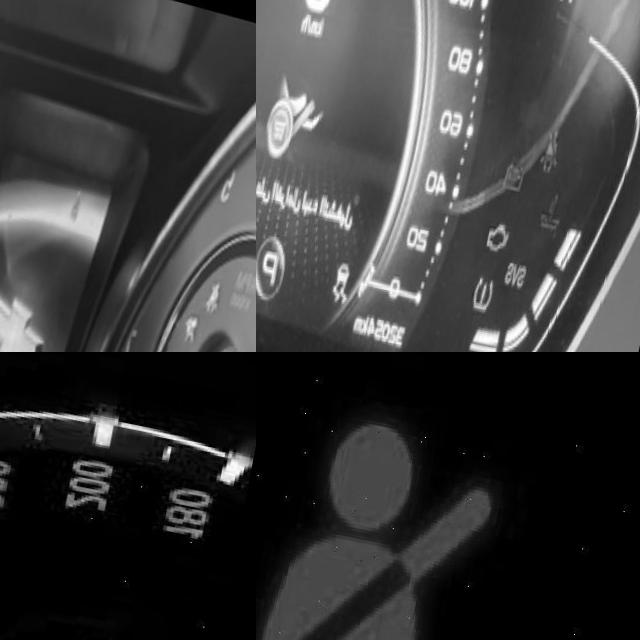High Engine Coolant Temperature: (550, 162, 583, 217)
Seat Belt: (256, 381, 582, 640), (549, 100, 580, 159)
